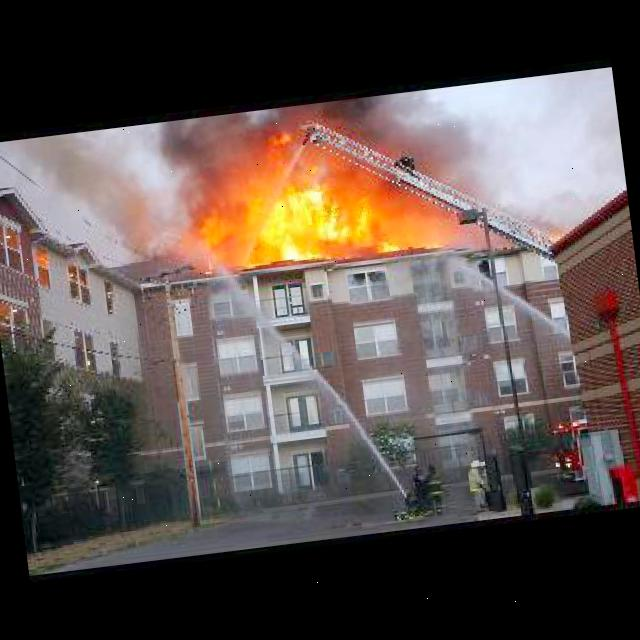fire: (168, 107, 414, 278), (36, 126, 173, 268)
